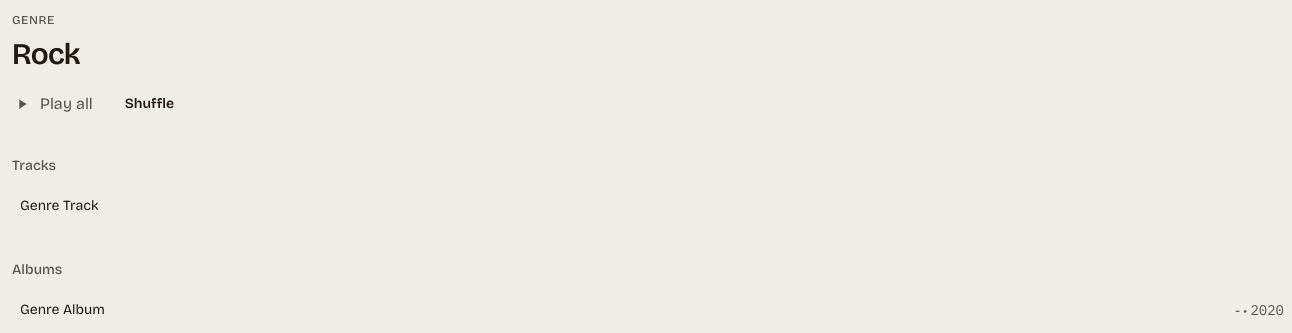
Genre › opens a Play/Shuffle menu from the title header
The width and height of the screenshot is (1292, 333).
Expected: the text "Genre Track" is shown, [20,196,99,216]
Right-click the heading "Rock".
right_click(46, 54)  # box [12,36,80,72]
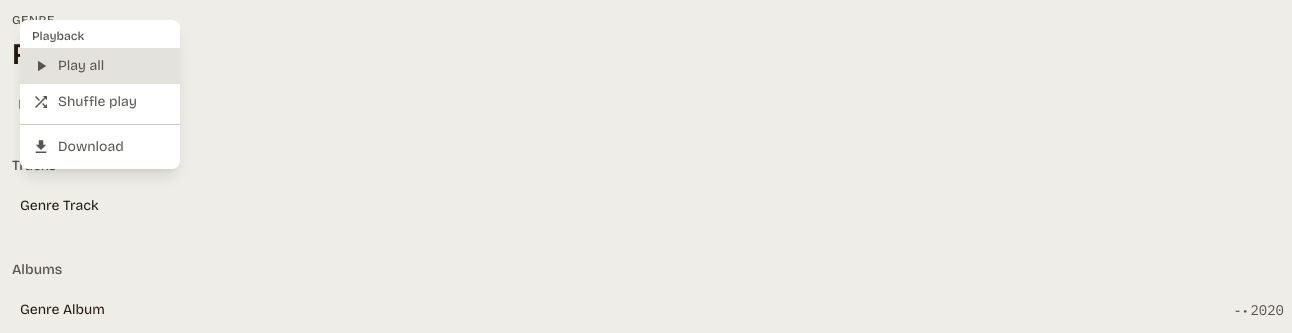
Expected: the menu is shown, [20,20,180,169]
Expected: the menu item "Play all" is shown, [20,48,180,84]
Expected: the menu item "Shuffle play" is shown, [20,84,180,120]
